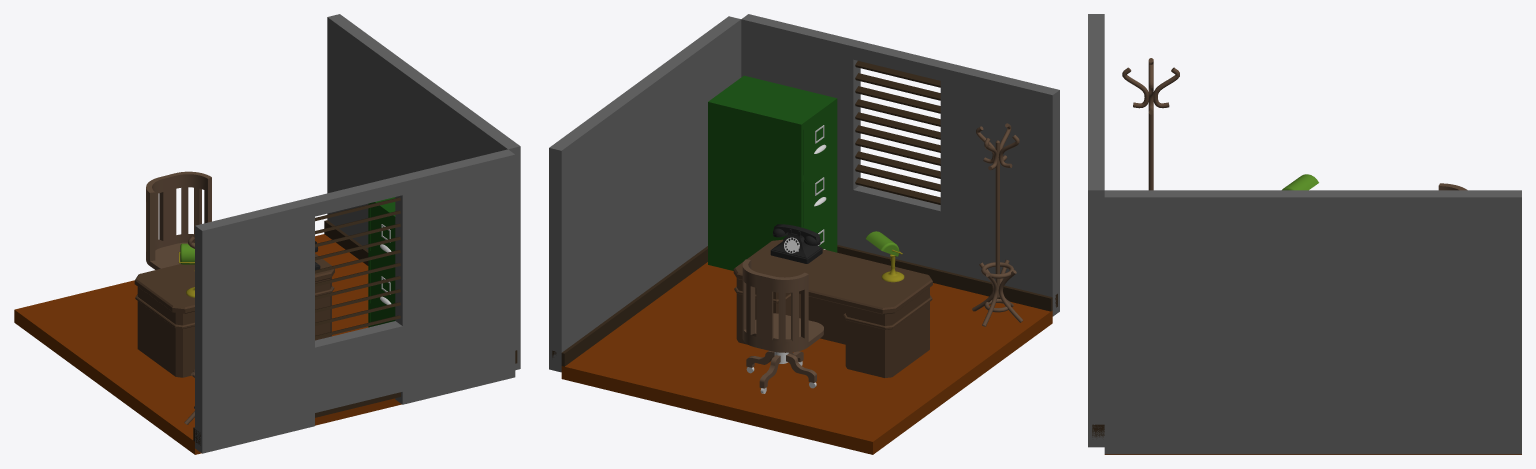
File: office.fbx
The picture shows the model from 3 angles, left to right: view 1: azimuth 30°, elevation 25°; view 2: azimuth 150°, elevation 25°; view 3: azimuth 270°, elevation 25°; orthographic projection. The views are drawn at different scales.
Parts seen in each view (by area): view 1: pCube20, desk:pCube8, polySurface53, filing_cabinate:pSphere3, filing_cabinate:pSphere1, filing_cabinate:pCube8; view 2: pCube20, filing_cabinate:pCube8, desk:pCube8, polySurface53, coat_stand:pCylinder1, phone:phone:pCube2, filing_cabinate:pSphere1, filing_cabinate:pSphere3, polySurface42, lamp1:maya_project:pCylinder1, filing_cabinate:pSphere2; view 3: pCube20, coat_stand:pCylinder1.
Boxes of the visible parts, box(x1,y1,x2,y2) form: pCube20: box(14, 14, 520, 454); desk:pCube8: box(134, 253, 334, 377); polySurface53: box(146, 171, 211, 269); filing_cabinate:pSphere3: box(370, 207, 395, 268); filing_cabinate:pSphere1: box(370, 259, 395, 320); filing_cabinate:pCube8: box(368, 197, 395, 327); pCube20: box(549, 14, 1059, 454); filing_cabinate:pCube8: box(708, 75, 837, 270); desk:pCube8: box(733, 239, 932, 377); polySurface53: box(742, 259, 823, 352); coat_stand:pCylinder1: box(972, 123, 1023, 326); phone:phone:pCube2: box(770, 224, 822, 263); filing_cabinate:pSphere1: box(803, 158, 835, 227); filing_cabinate:pSphere3: box(803, 106, 835, 174); polySurface42: box(746, 350, 816, 393); lamp1:maya_project:pCylinder1: box(865, 231, 904, 282); filing_cabinate:pSphere2: box(809, 210, 835, 252); pCube20: box(1088, 14, 1521, 454); coat_stand:pCylinder1: box(1122, 58, 1179, 190).
Bounding box in the file's own units: 26 × 17.5 × 26.
